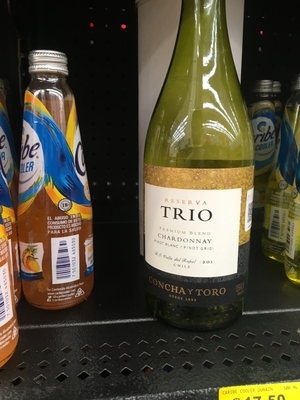trio chardonnay: (131, 12, 268, 334)
